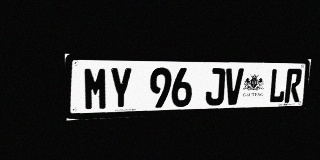6: (171, 68, 193, 107)
9: (150, 67, 172, 108)
J: (205, 68, 226, 106)
L: (268, 68, 287, 103)
M: (83, 67, 108, 111)
R: (284, 69, 303, 103)
V: (224, 68, 244, 105)
Y: (109, 67, 132, 110)
